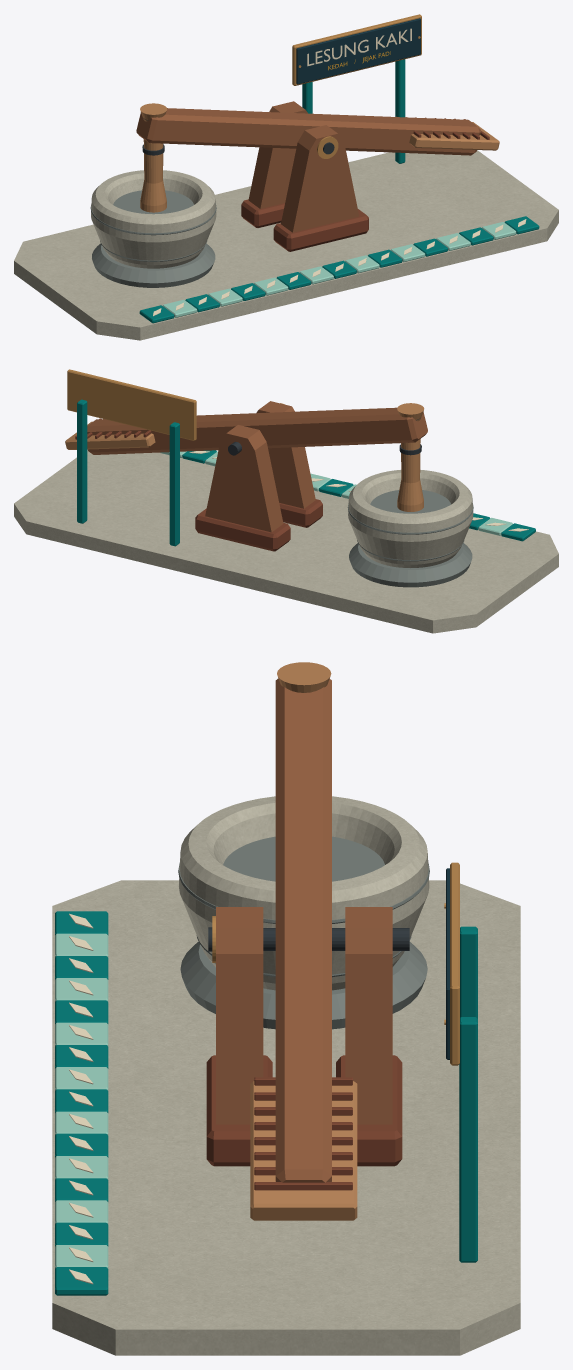
3 views of the same model, one above another, from view 1: azimuth 30°, elevation 25°; view 2: azimuth 150°, elevation 25°; view 3: azimuth 270°, elevation 25° (orthographic). The views are drawn at different scales.
Visible parts, largest first — view 1: Padi walk verge, Long foot lever, Hewn rice mortar, Fork timbers, Edge tiles, Enamel plaque field, Fulcrum sole plate, Stone mortar foot, Rice pestle, Mortar tooling rings, Treadle, Label supports (+3 smaller); view 2: Padi walk verge, Long foot lever, Fork timbers, Hewn rice mortar, Beaded plaque rim, Fulcrum sole plate, Stone mortar foot, Label supports, Edge tiles, Rice pestle, Mortar tooling rings, Treadle; view 3: Padi walk verge, Long foot lever, Fork timbers, Edge tiles, Hewn rice mortar, Treadle, Label supports, Fulcrum sole plate, Stone mortar foot, Mortar tooling rings, Foot grips, Rice tesserae (+3 smaller).
Part boxes in pixels (left/top/right/bottom): Padi walk verge: left=14, top=150, right=558, bottom=340; Long foot lever: left=136, top=108, right=481, bottom=155; Hewn rice mortar: left=91, top=170, right=216, bottom=268; Fork timbers: left=248, top=101, right=359, bottom=232; Edge tiles: left=139, top=216, right=539, bottom=323; Enamel plaque field: left=296, top=18, right=420, bottom=84; Fulcrum sole plate: left=241, top=199, right=368, bottom=251; Stone mortar foot: left=92, top=243, right=215, bottom=287; Rice pestle: left=140, top=103, right=167, bottom=212; Mortar tooling rings: left=90, top=190, right=216, bottom=261; Treadle: left=409, top=122, right=499, bottom=150; Label supports: left=302, top=59, right=405, bottom=163; Padi walk verge: left=14, top=449, right=558, bottom=633; Long foot lever: left=87, top=407, right=427, bottom=454; Fork timbers: left=205, top=401, right=315, bottom=532; Hewn rice mortar: left=348, top=470, right=473, bottom=567; Beaded plaque rim: left=67, top=369, right=196, bottom=440; Fulcrum sole plate: left=195, top=499, right=322, bottom=551; Stone mortar foot: left=349, top=543, right=472, bottom=587; Label supports: left=77, top=399, right=179, bottom=546; Edge tiles: left=160, top=450, right=535, bottom=541; Rice pestle: left=397, top=403, right=424, bottom=511; Mortar tooling rings: left=347, top=490, right=473, bottom=561; Treadle: left=65, top=421, right=155, bottom=449; Padi walk verge: left=52, top=880, right=520, bottom=1355; Long foot lever: left=275, top=678, right=331, bottom=1182; Fork timbers: left=216, top=907, right=392, bottom=1124; Edge tiles: left=55, top=911, right=108, bottom=1295; Hewn rice mortar: left=179, top=796, right=429, bottom=990; Treadle: left=250, top=1081, right=357, bottom=1220; Label supports: left=459, top=926, right=477, bottom=1262; Fulcrum sole plate: left=206, top=1055, right=402, bottom=1166; Stone mortar foot: left=180, top=941, right=427, bottom=1029; Mortar tooling rings: left=178, top=836, right=429, bottom=977; Foot grips: left=254, top=1077, right=352, bottom=1190; Rice tesserae: left=69, top=913, right=93, bottom=1284.
Bounding box in the file's own units: 3.86 × 1.33 × 1.7.
12 materials, 1 textured.
